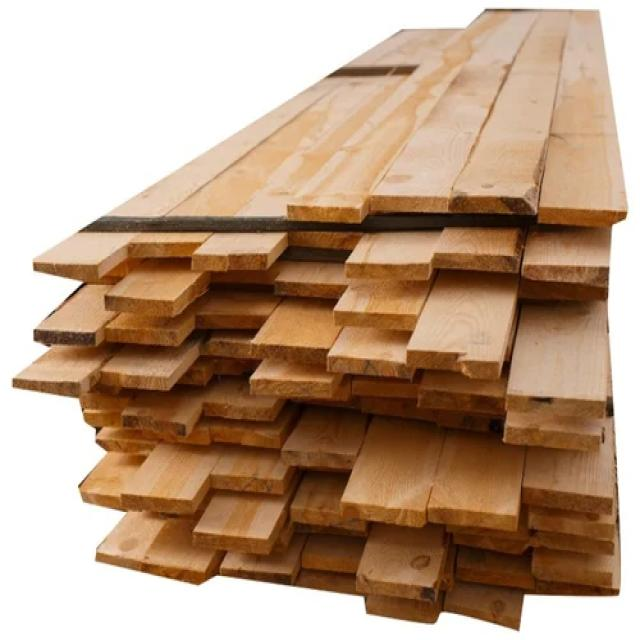perfect-wooden-plate: (18, 9, 628, 620), (118, 435, 285, 553)
